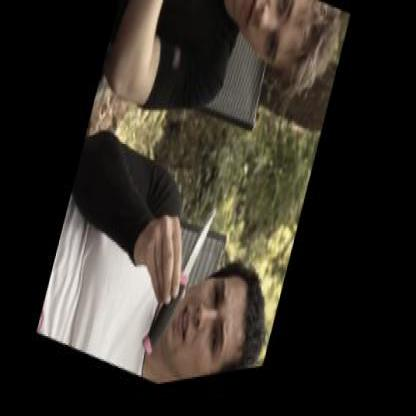knife: (135, 180, 227, 390)
